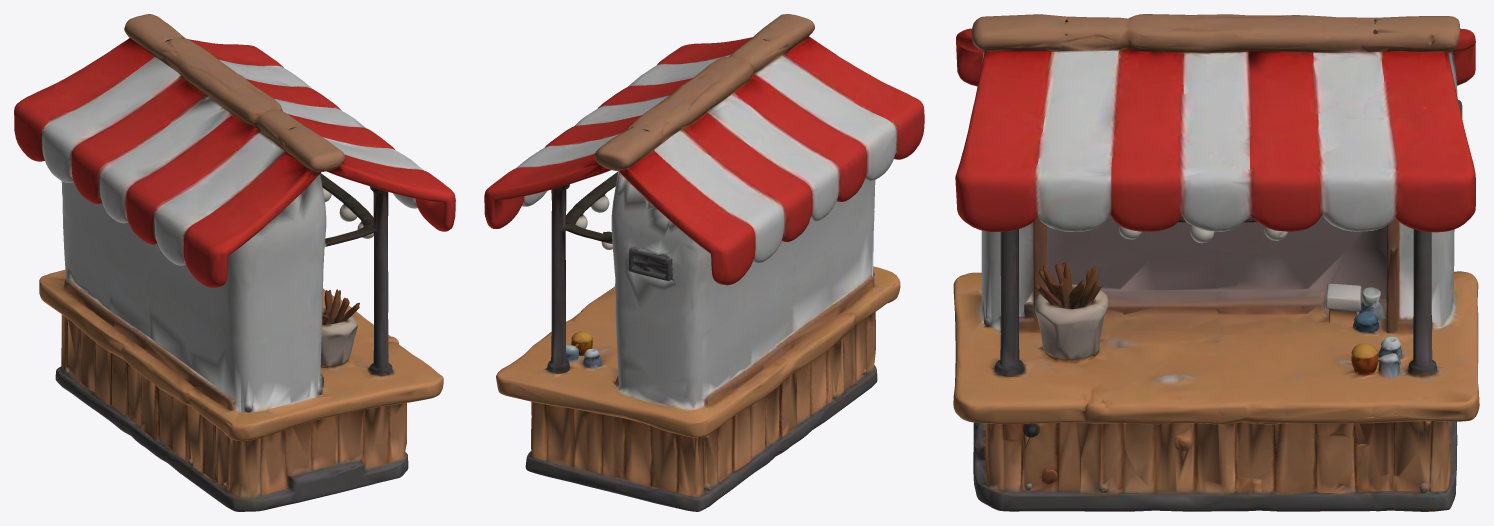
The model's file is kiosk.glb.
The picture shows the model from 3 angles, left to right: view 1: azimuth 30°, elevation 25°; view 2: azimuth 150°, elevation 25°; view 3: azimuth 270°, elevation 25°; orthographic projection. The views are drawn at different scales.
Visible parts, largest first — view 1: tripo_node_4a3d73a2-99ab-4b5e-a9f7-e62ff189085b; view 2: tripo_node_4a3d73a2-99ab-4b5e-a9f7-e62ff189085b; view 3: tripo_node_4a3d73a2-99ab-4b5e-a9f7-e62ff189085b.
Boxes of the visible parts, bbox=[...] form: tripo_node_4a3d73a2-99ab-4b5e-a9f7-e62ff189085b: bbox=[14, 14, 455, 511]; tripo_node_4a3d73a2-99ab-4b5e-a9f7-e62ff189085b: bbox=[484, 14, 924, 511]; tripo_node_4a3d73a2-99ab-4b5e-a9f7-e62ff189085b: bbox=[953, 14, 1479, 511].
Bounding box in the file's own units: 0.6908 × 0.9185 × 0.9995.
Materials: 1 (1 with a texture image).
